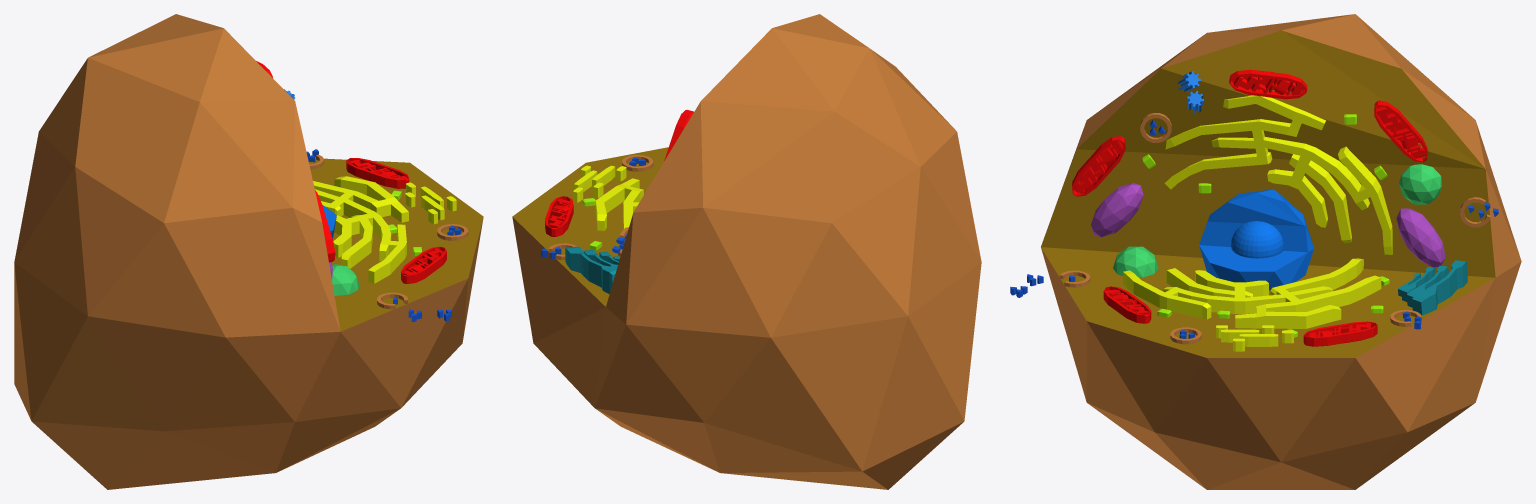
The model's file is animal_cell.glb.
3 views of the same model, side by side, from view 1: azimuth 30°, elevation 25°; view 2: azimuth 150°, elevation 25°; view 3: azimuth 270°, elevation 25° (orthographic).
Parts seen in each view (by area): view 1: Icosphere, Cube_0, Cube.001_0, Cube.002_0, Cube.019, Icosphere.005; view 2: Icosphere, Cube.005, Cube_0, Cube.019, Cube.001_0; view 3: Icosphere, Cube.037_0, Cube_0, Icosphere.001, Cube.005, Icosphere.004, Cube.024_0, Icosphere.002, Cube.012_0, Cube.011_0, Icosphere.003, Cube.001_0 (+3 smaller).
Part boxes in pixels (x1,y1,x2,y2): Icosphere: (14,14,483,489); Cube_0: (313,176,408,283); Cube.001_0: (346,158,409,188); Cube.002_0: (401,246,446,283); Cube.019: (405,182,456,224); Icosphere.005: (332,264,359,296); Icosphere: (512,14,981,489); Cube.005: (565,246,619,293); Cube_0: (595,178,643,241); Cube.019: (573,165,626,202); Cube.001_0: (545,196,573,236); Icosphere: (1041,14,1521,489); Cube.037_0: (1164,95,1392,254); Cube_0: (1123,258,1381,328); Icosphere.001: (1199,189,1314,290); Cube.005: (1398,260,1467,315); Icosphere.004: (1396,208,1445,267); Cube.024_0: (1229,69,1307,99); Icosphere.002: (1091,183,1143,237); Cube.012_0: (1374,100,1427,162); Cube.011_0: (1072,136,1125,196); Icosphere.003: (1399,164,1441,204); Cube.001_0: (1303,321,1377,346).
Size of the model in its own units: 8.47 by 8.45 by 8.95.
